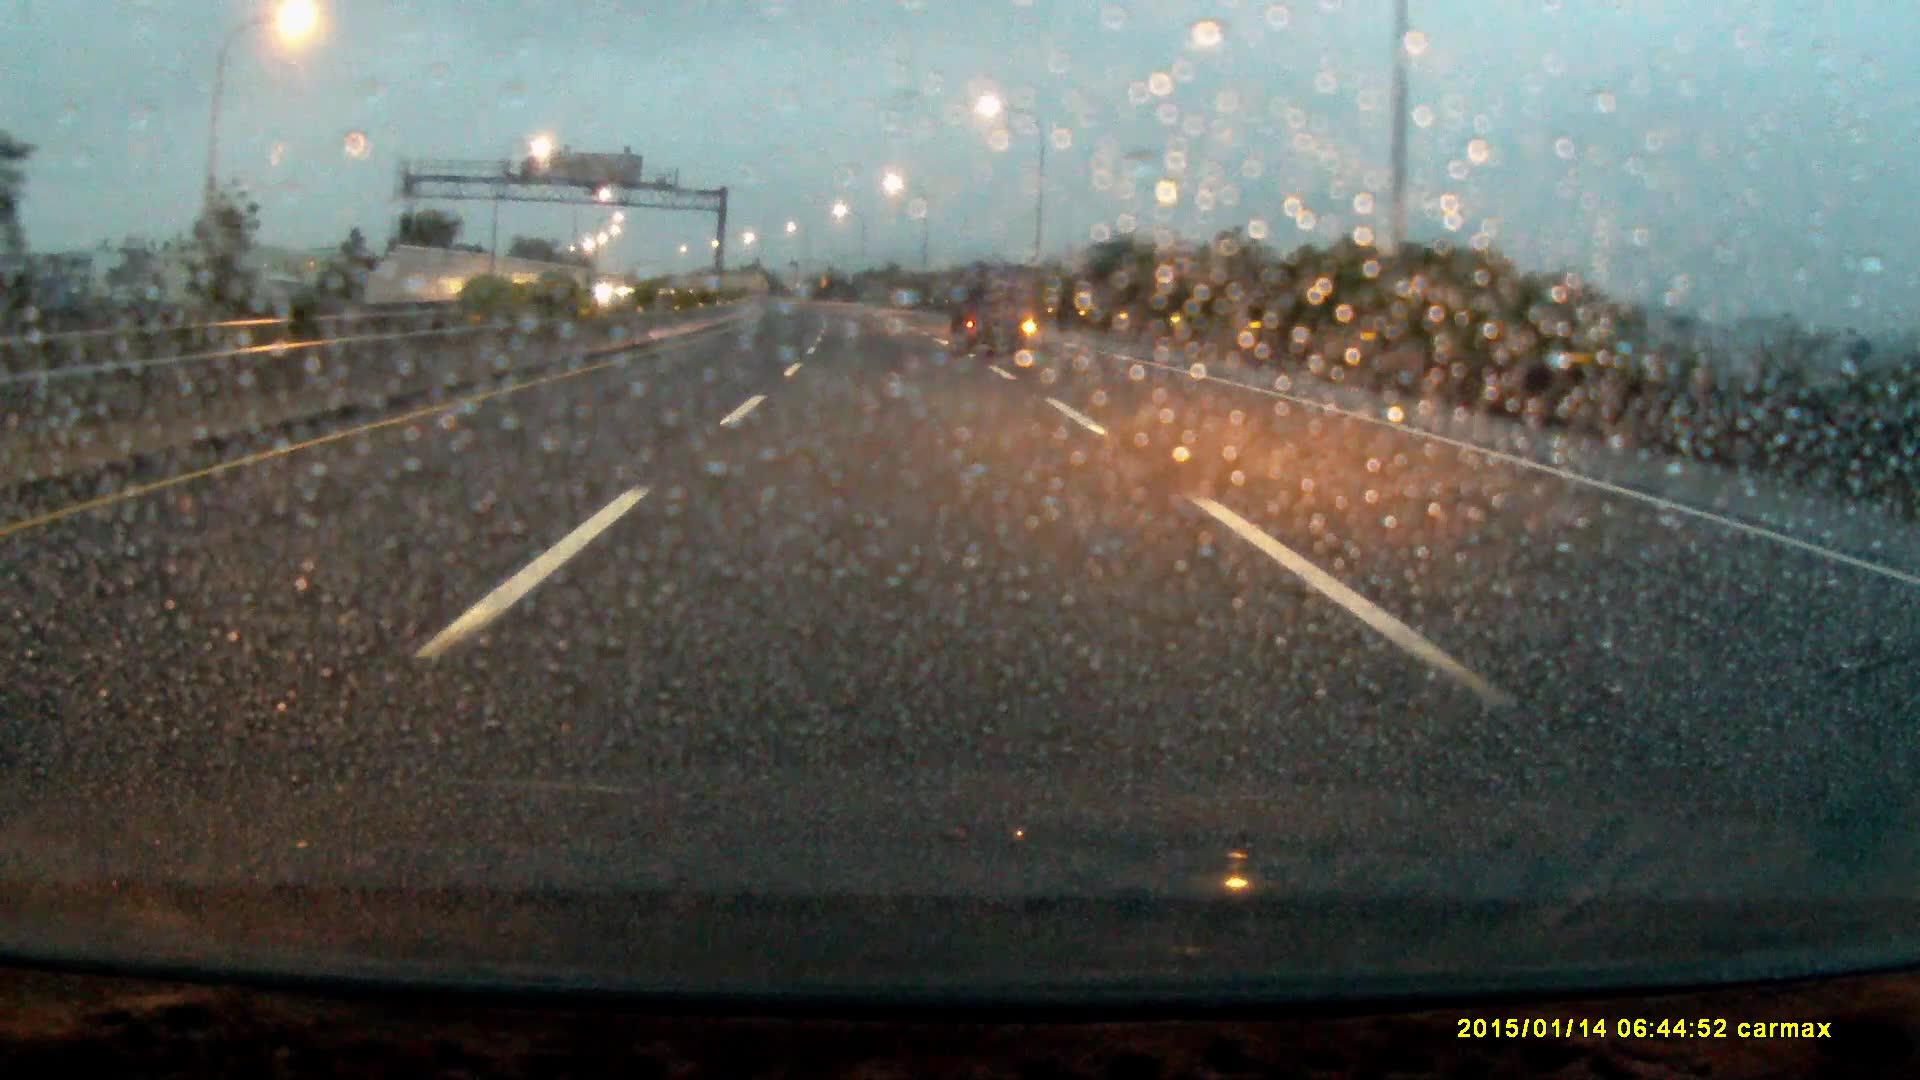vehicle: (951, 272, 1036, 360)
